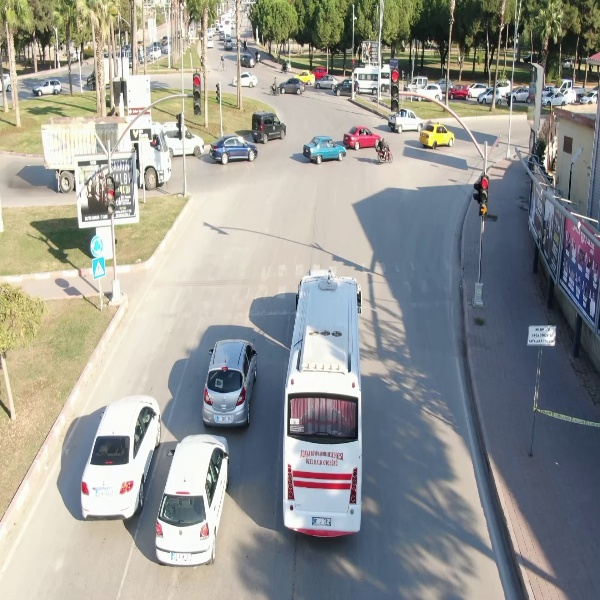car: (281, 270, 366, 541), (78, 392, 165, 525), (151, 428, 231, 569), (199, 338, 260, 428), (209, 133, 258, 166), (301, 135, 347, 165), (250, 110, 287, 144), (418, 121, 457, 151), (343, 125, 383, 151), (32, 77, 65, 98), (276, 76, 309, 96), (445, 82, 472, 104), (333, 77, 362, 97), (541, 91, 570, 108)
